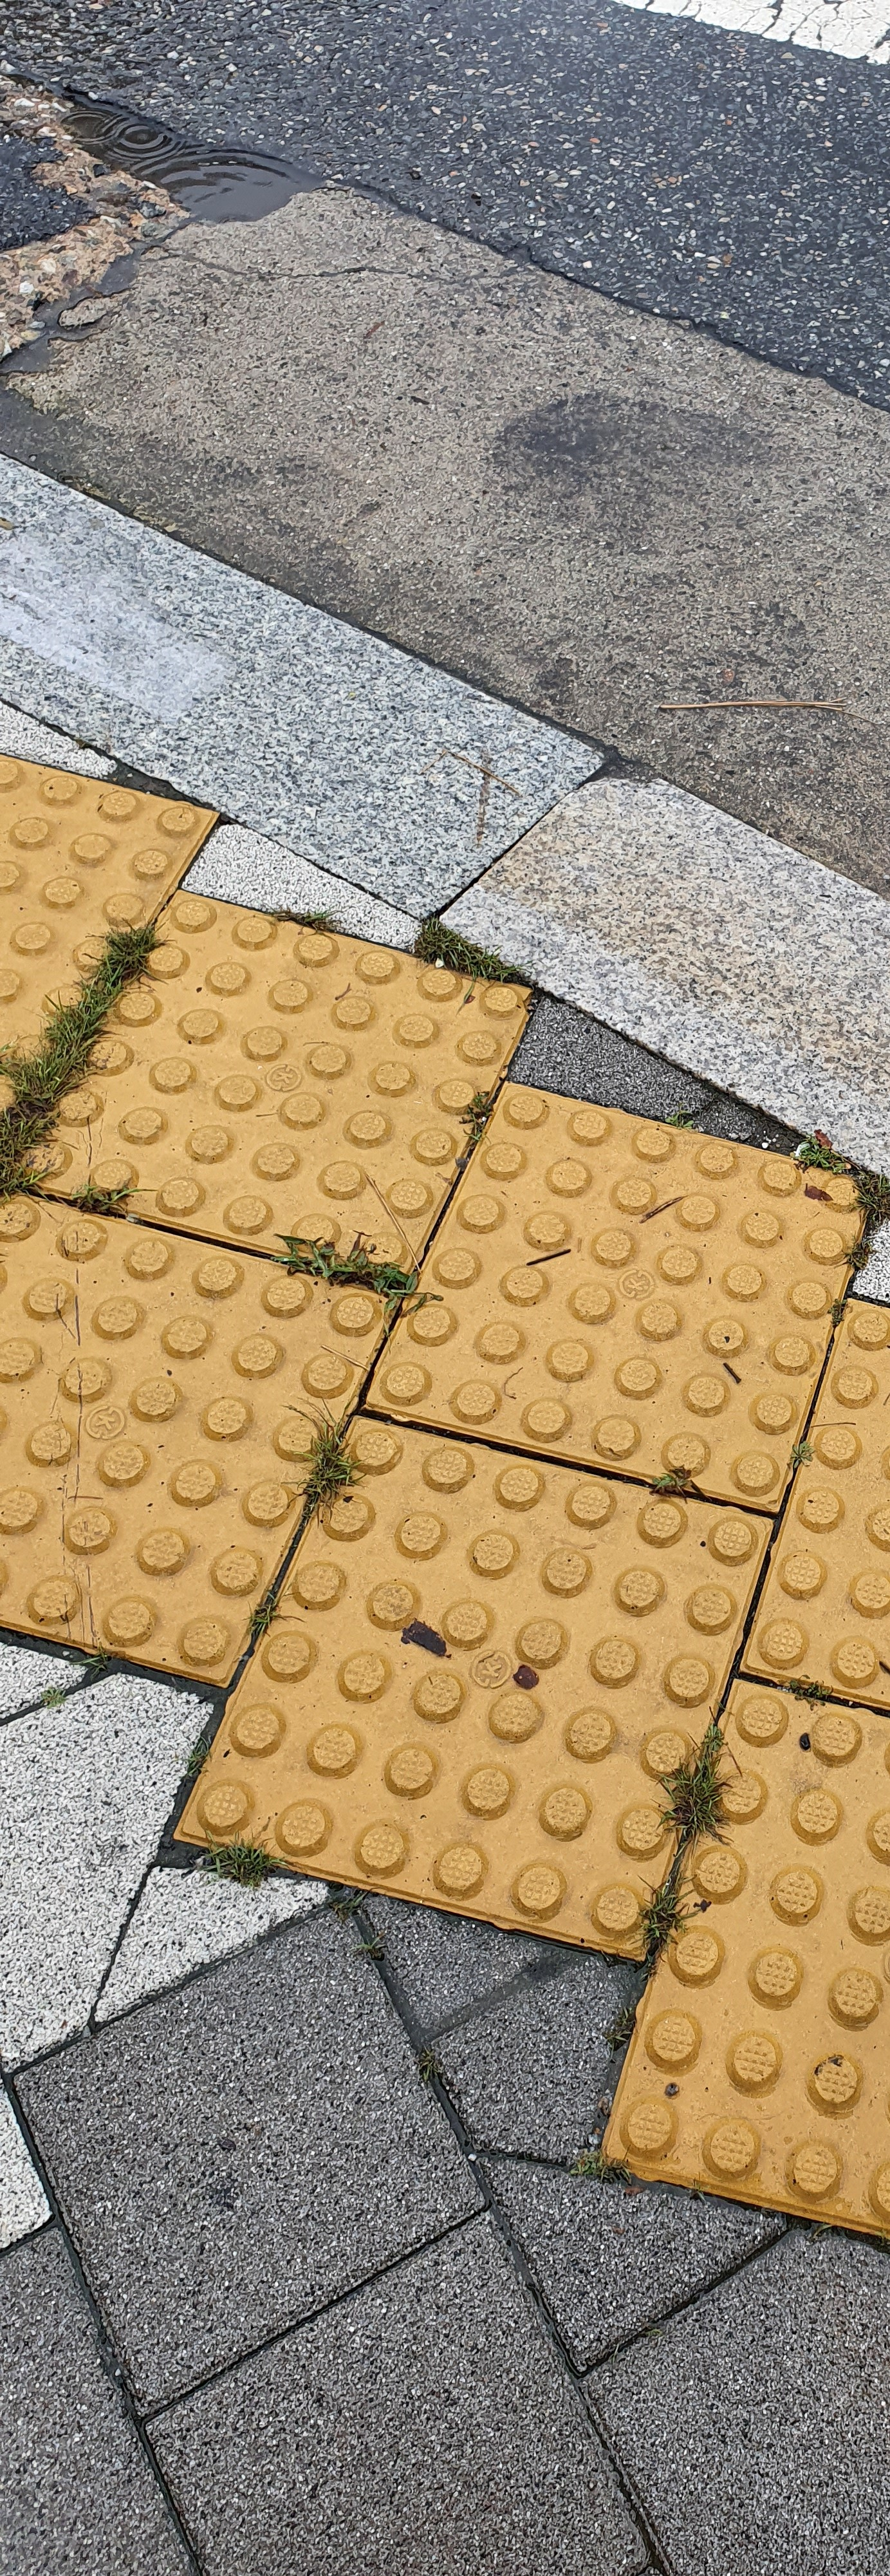warningBlock: (307, 1416, 685, 1916), (478, 1112, 836, 1577), (103, 887, 506, 1273), (36, 1193, 274, 1638)
